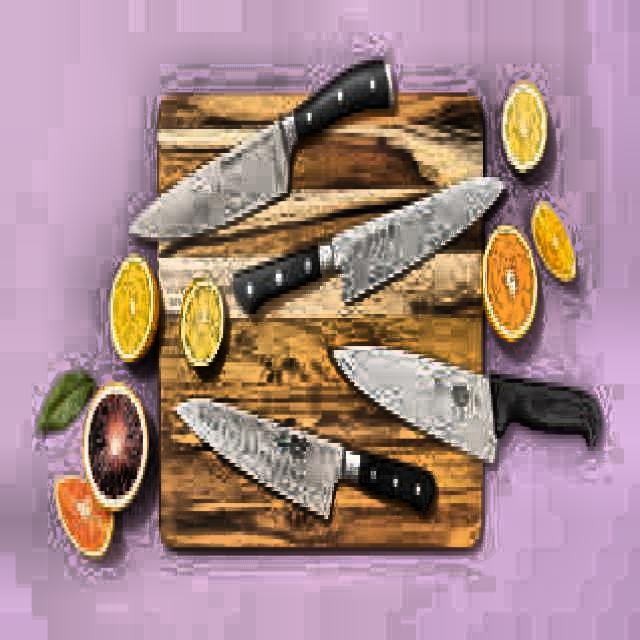knife: (128, 51, 398, 267), (231, 169, 513, 318), (327, 337, 609, 479), (175, 392, 445, 540)
